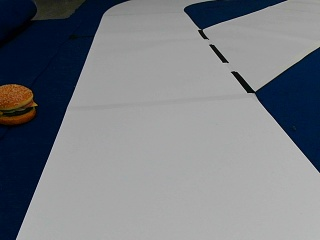burger: (0, 82, 36, 124)
